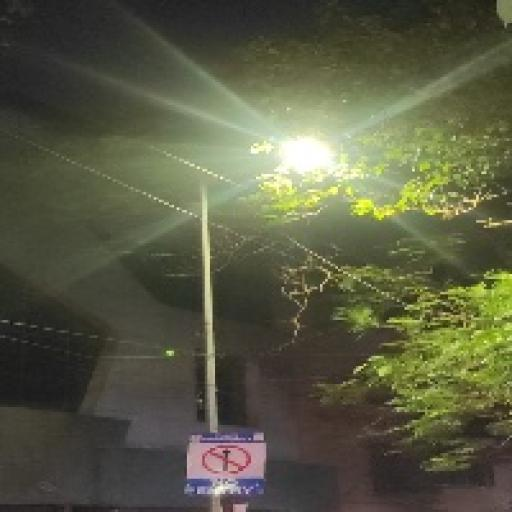Working: (268, 129, 353, 192)
